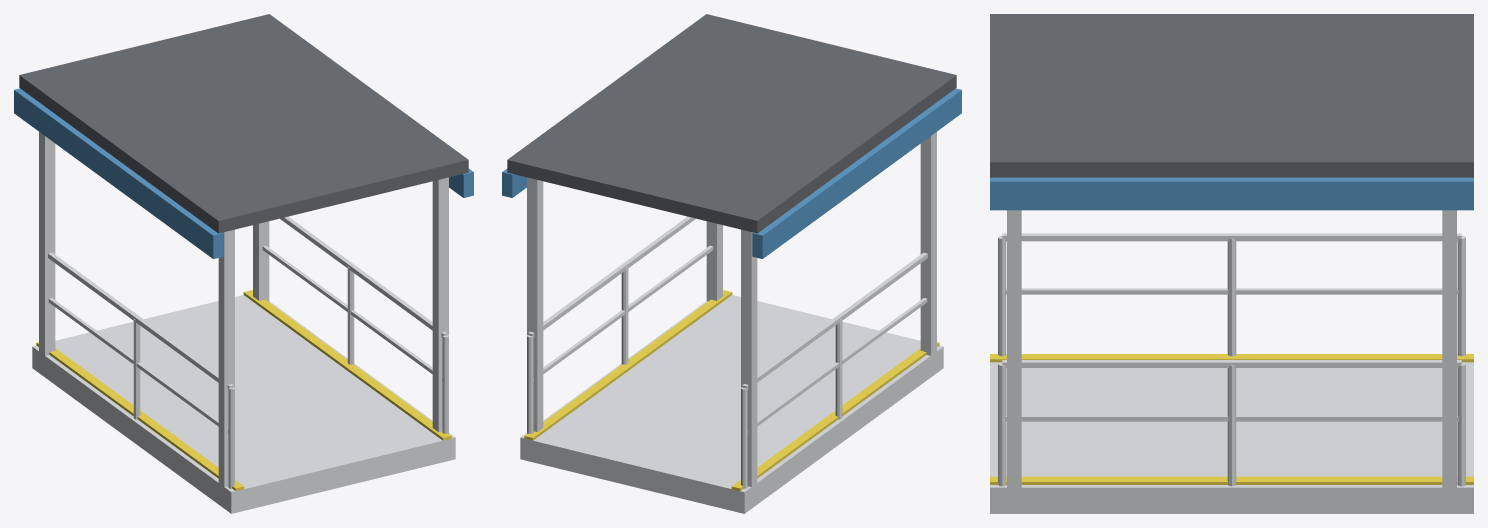
File: ferry-terminal-and-harbour-crossing-ferry-terminal-and-dda4c631__35661.glb
3 renders of one model, left to right at view 1: azimuth 30°, elevation 25°; view 2: azimuth 150°, elevation 25°; view 3: azimuth 270°, elevation 25°, orthographic. The views are drawn at different scales.
Visible parts, largest first — view 1: ferry-terminal-and-harbour-crossing-foot-passenger-walkway; view 2: ferry-terminal-and-harbour-crossing-foot-passenger-walkway; view 3: ferry-terminal-and-harbour-crossing-foot-passenger-walkway.
Boxes of the visible parts, box(x1,y1,x2,y2) form: ferry-terminal-and-harbour-crossing-foot-passenger-walkway: box(14, 14, 473, 513); ferry-terminal-and-harbour-crossing-foot-passenger-walkway: box(502, 14, 961, 513); ferry-terminal-and-harbour-crossing-foot-passenger-walkway: box(990, 14, 1473, 513).
Size of the model in its own units: 3.02 by 3.28 by 4.
